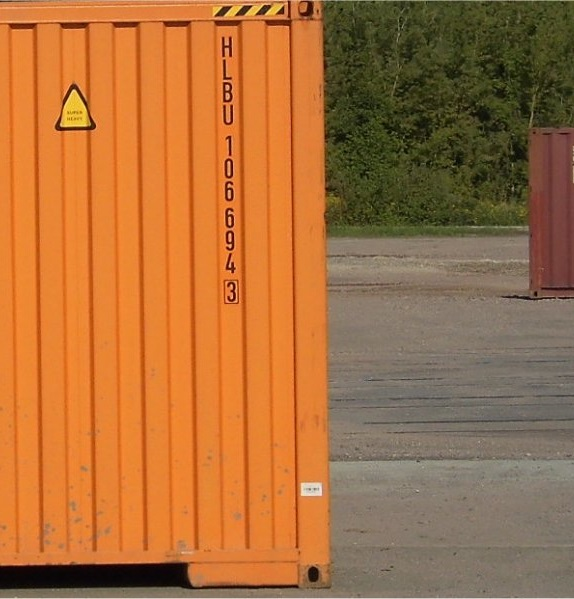container_no_door: (1, 1, 328, 593)
